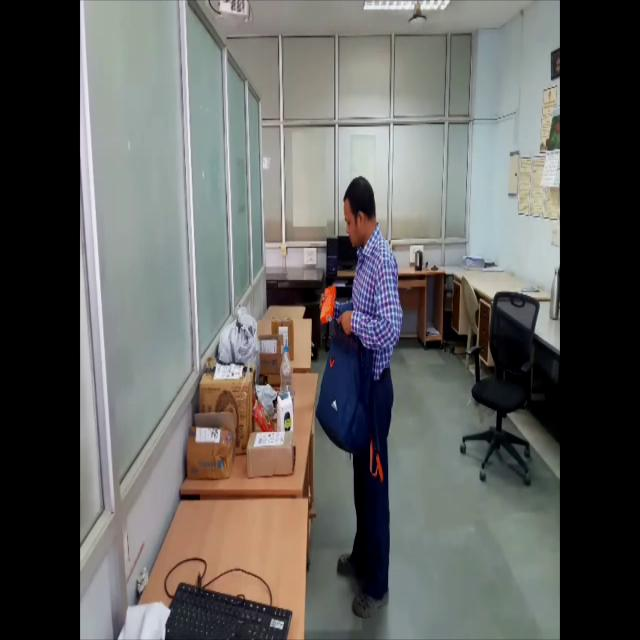shoplifting: (309, 162, 406, 635)
